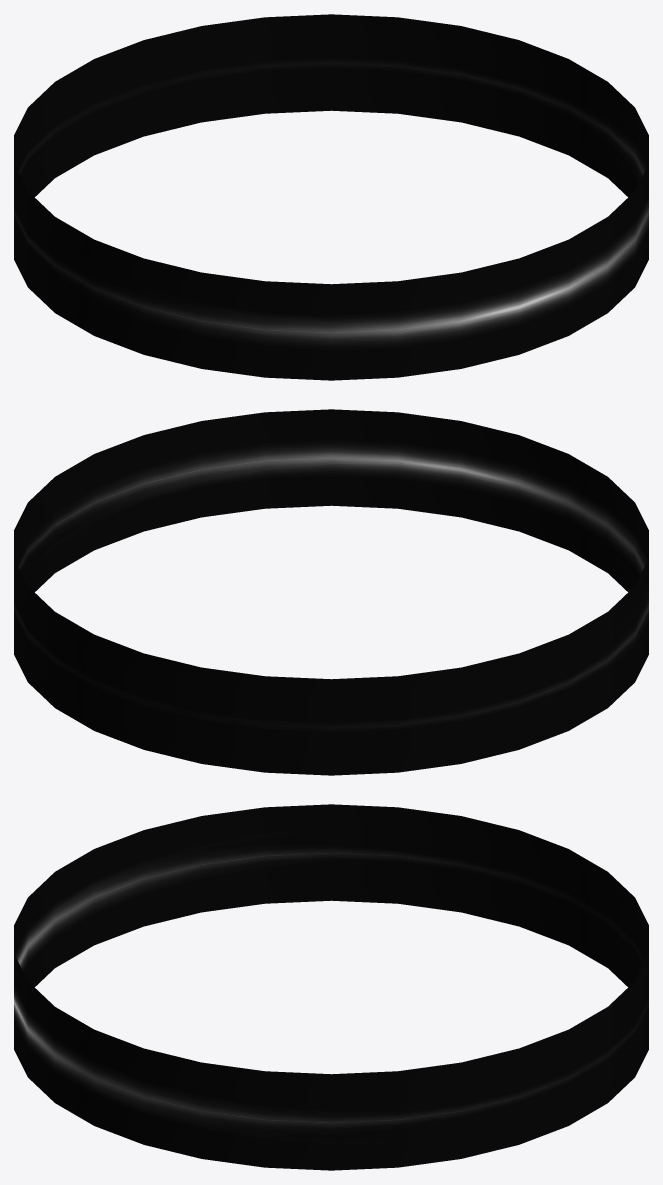
Rendered from 0295_goupa_01.glb.
The picture shows the model from 3 angles, top to bottom: view 1: azimuth 30°, elevation 25°; view 2: azimuth 150°, elevation 25°; view 3: azimuth 270°, elevation 25°; orthographic projection.
Bounding box in the file's own units: 2.2 × 0.3667 × 2.19.
1 material, 1 textured.
